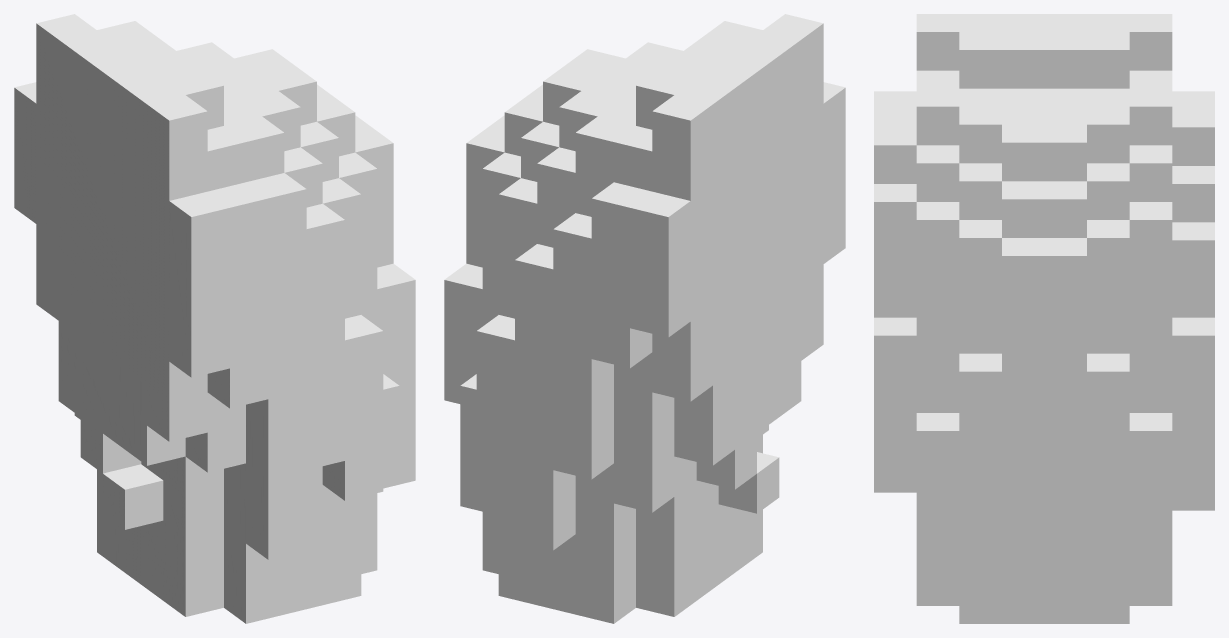
Rendered from ramie.dae.
The picture shows the model from 3 angles, left to right: view 1: azimuth 30°, elevation 25°; view 2: azimuth 150°, elevation 25°; view 3: azimuth 270°, elevation 25°; orthographic projection. The views are drawn at different scales.
Visible parts, largest first — view 1: Content; view 2: Content; view 3: Content.
Boxes of the visible parts, box(x1,y1,x2,y2) form: Content: box(14, 14, 415, 623); Content: box(444, 14, 845, 623); Content: box(874, 14, 1214, 623).
Bounding box in the file's own units: 7 × 13 × 8.
Materials: 1 (1 with a texture image).
